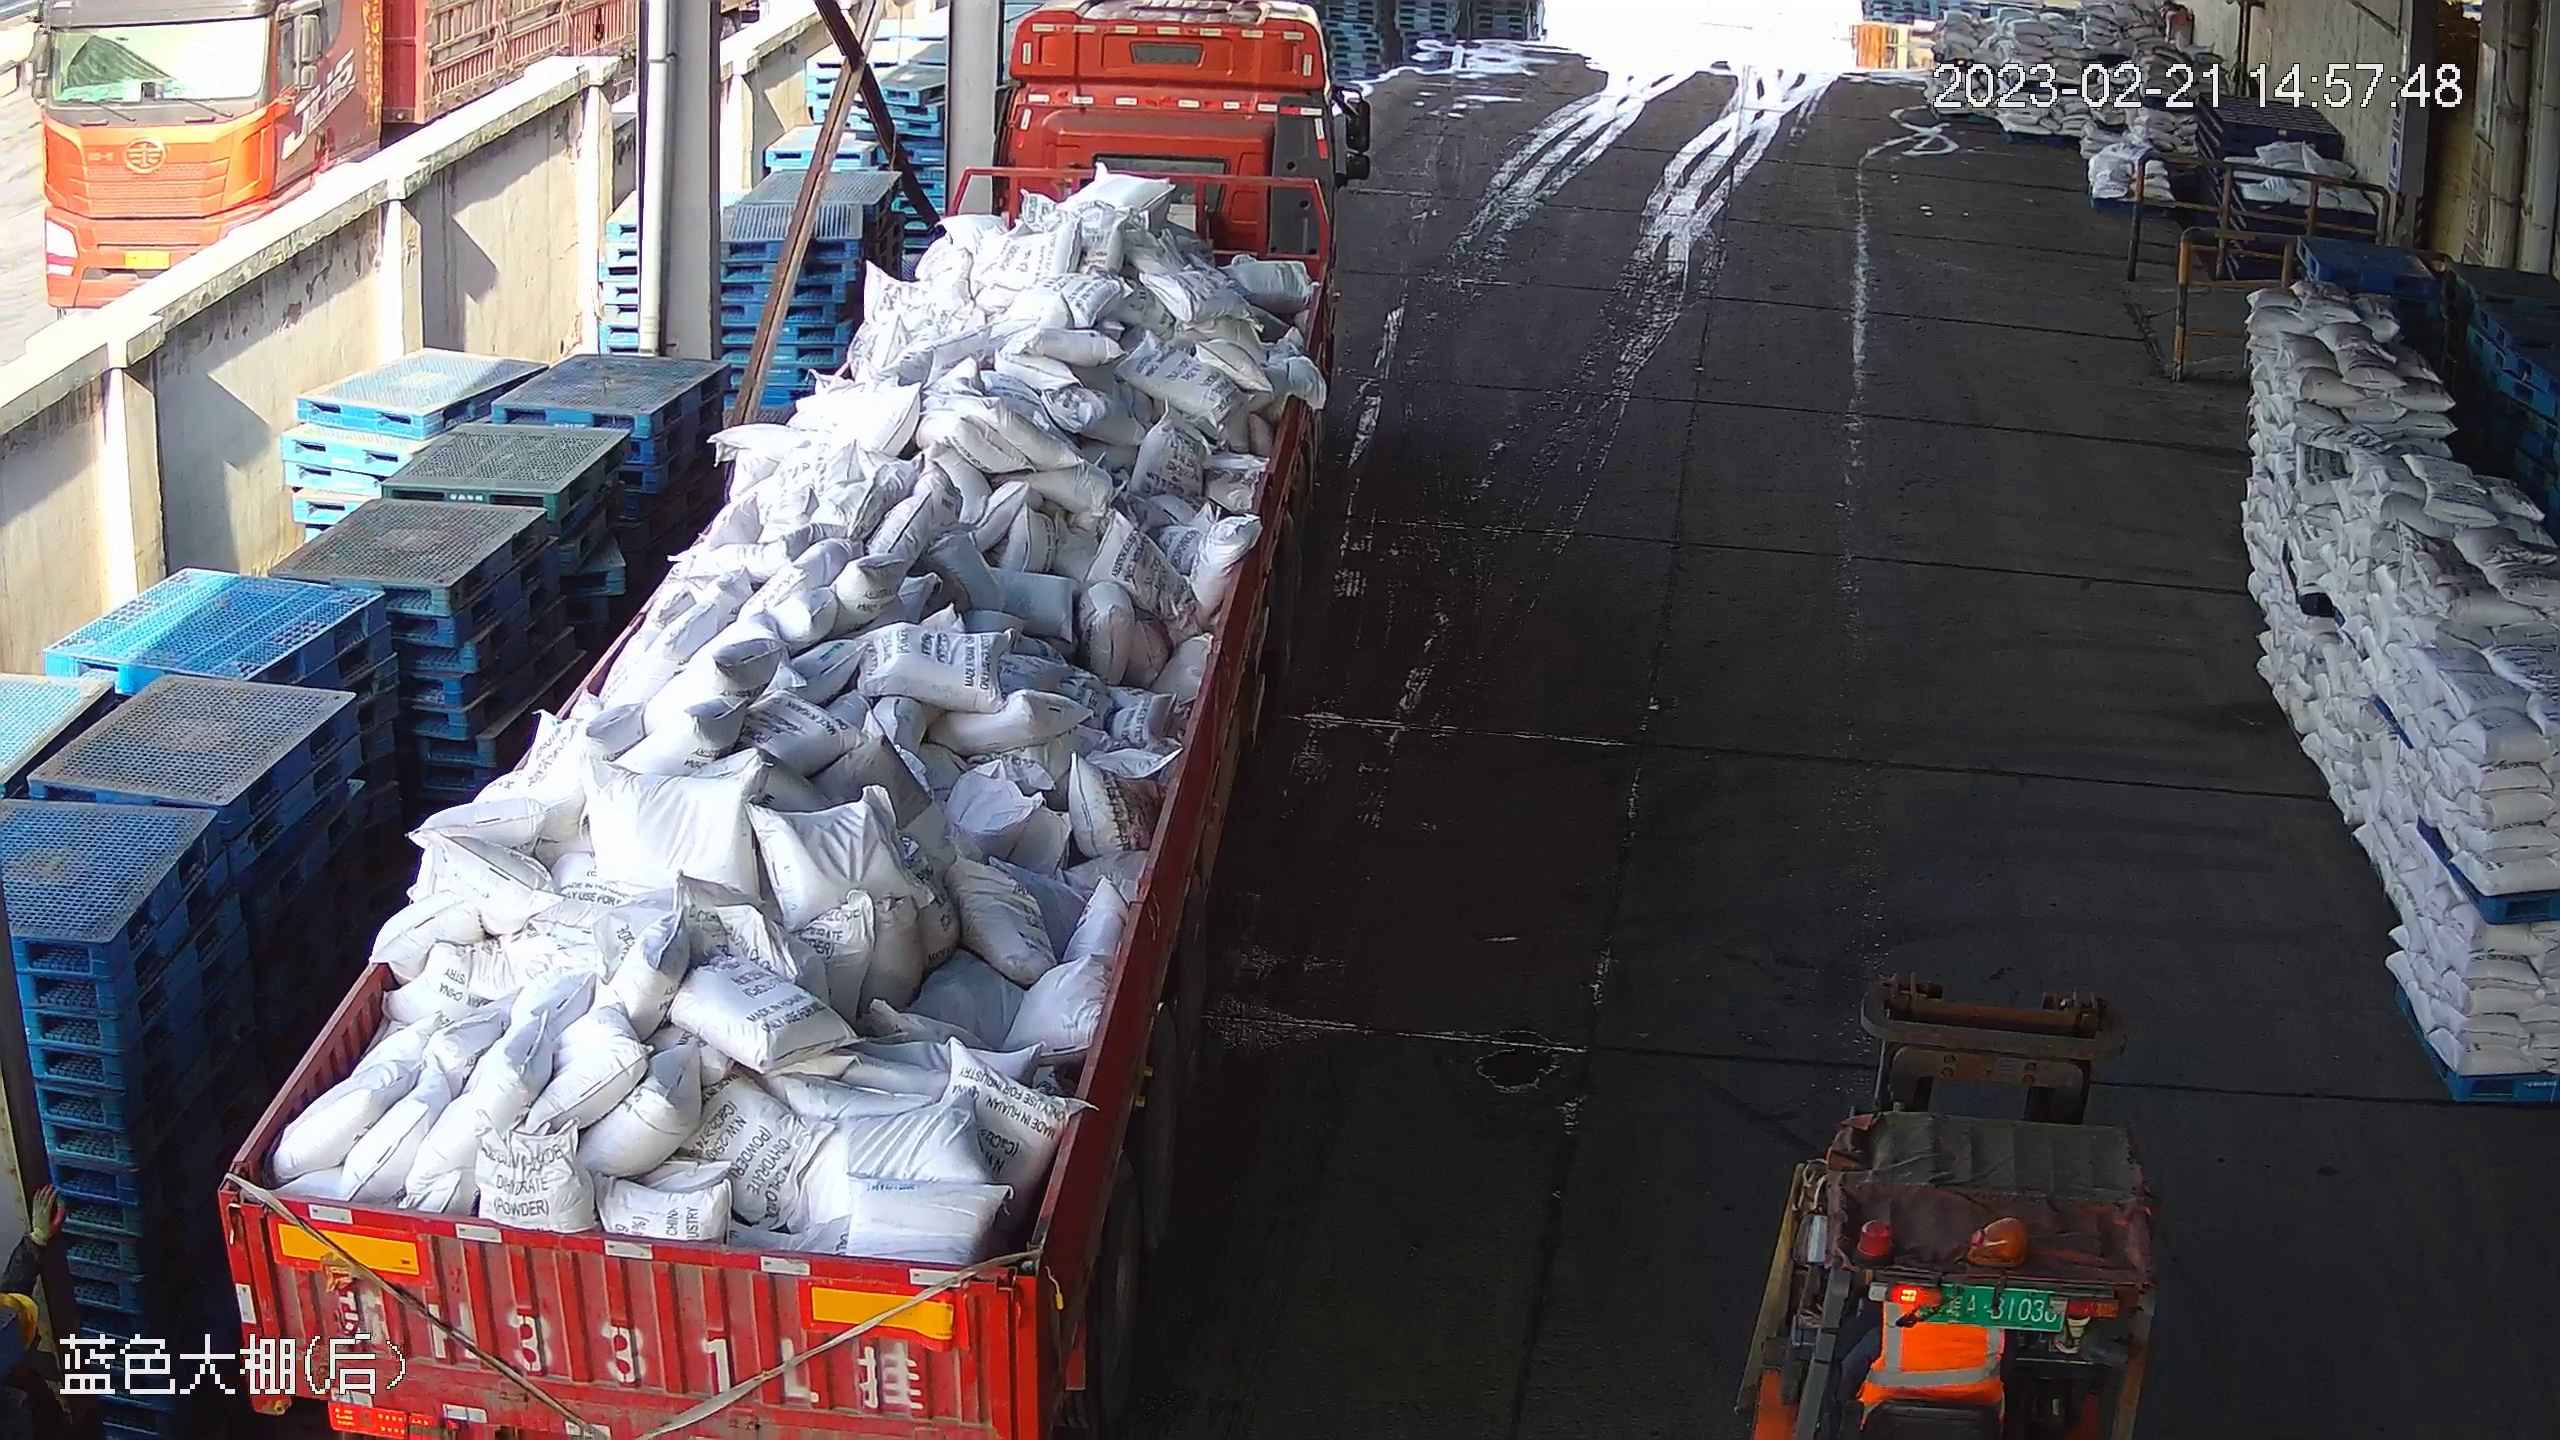truck: (213, 16, 1370, 1433)
